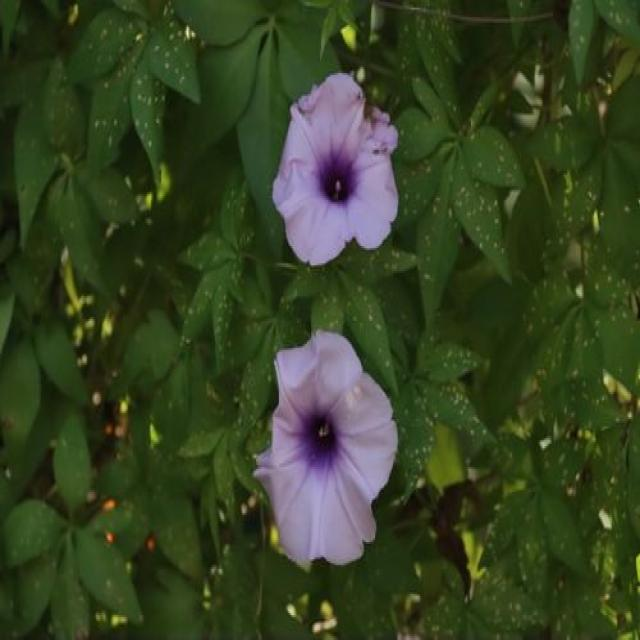ipomoea: (251, 325, 402, 569), (269, 67, 403, 269)
